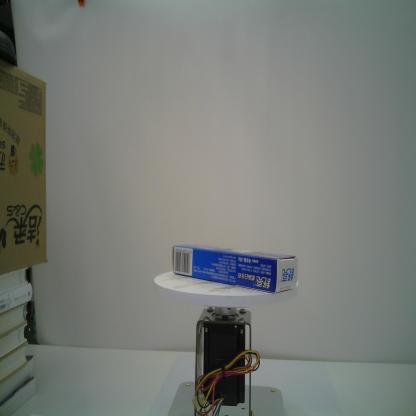Personal Hygiene: (172, 243, 298, 294)
